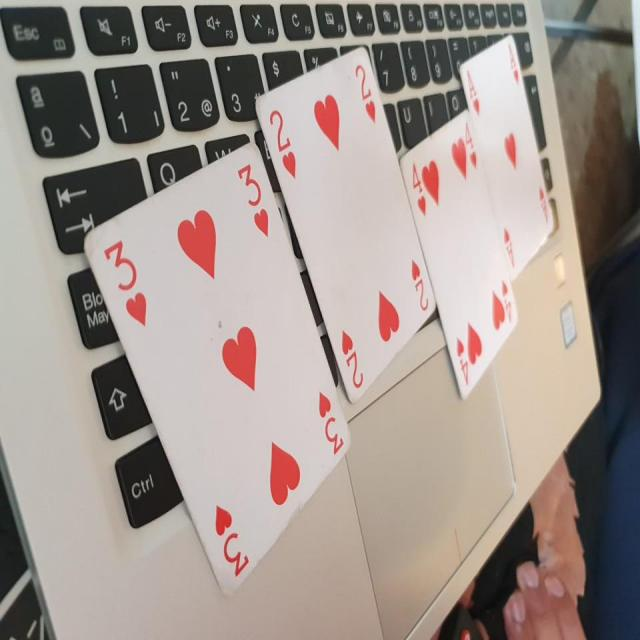2 Hearts: (249, 32, 438, 405)
3 Hearts: (74, 139, 356, 609)
4 Hearts: (397, 115, 527, 400)
A Hearts: (456, 32, 561, 277)
